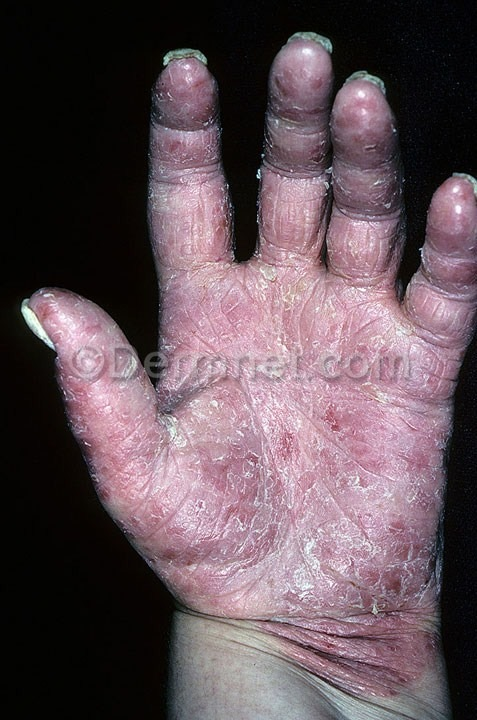Psoriasis: (185, 273, 436, 676), (54, 319, 161, 514), (146, 118, 225, 259), (334, 153, 396, 275), (268, 145, 319, 264)
